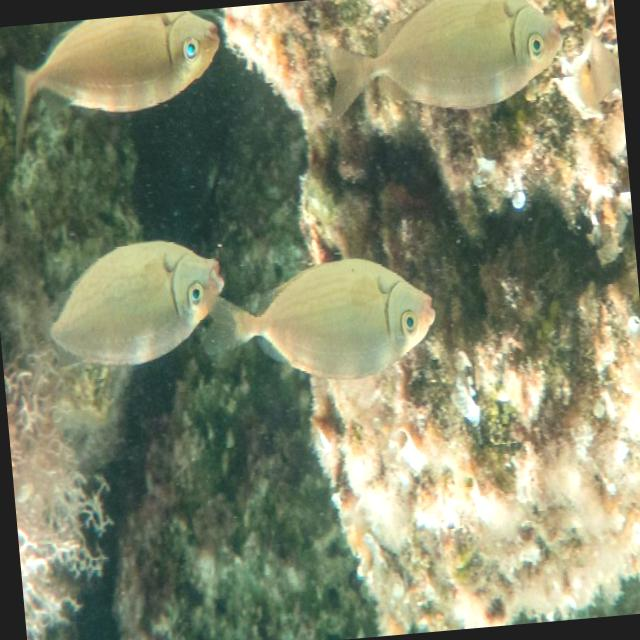Sokar Baligi: (190, 227, 451, 410), (305, 0, 575, 153), (12, 220, 234, 387)
